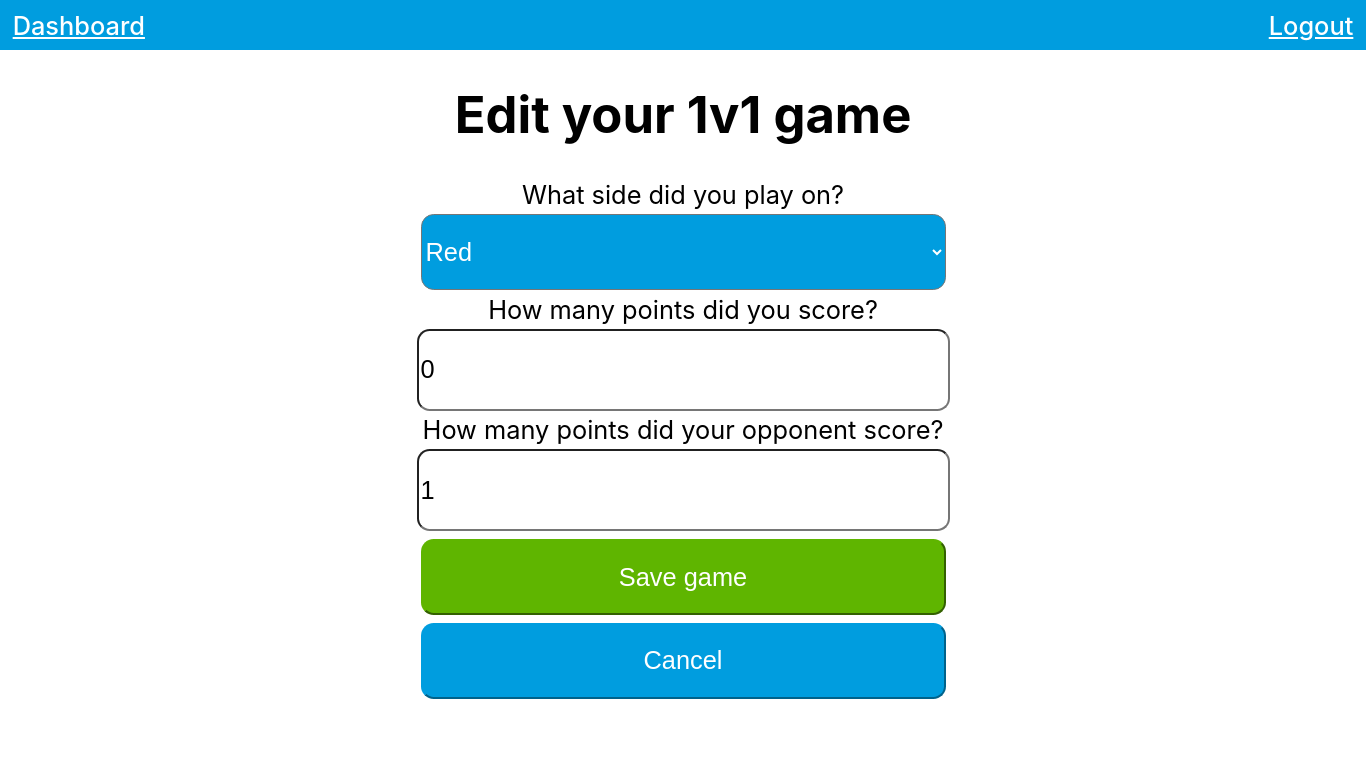
can edit a game
Expected: the heading "Edit your 1v1 game" is shown, [333, 84, 1033, 145]
Select "Blue" in the dropdown at (683, 252), box [420, 214, 946, 290]
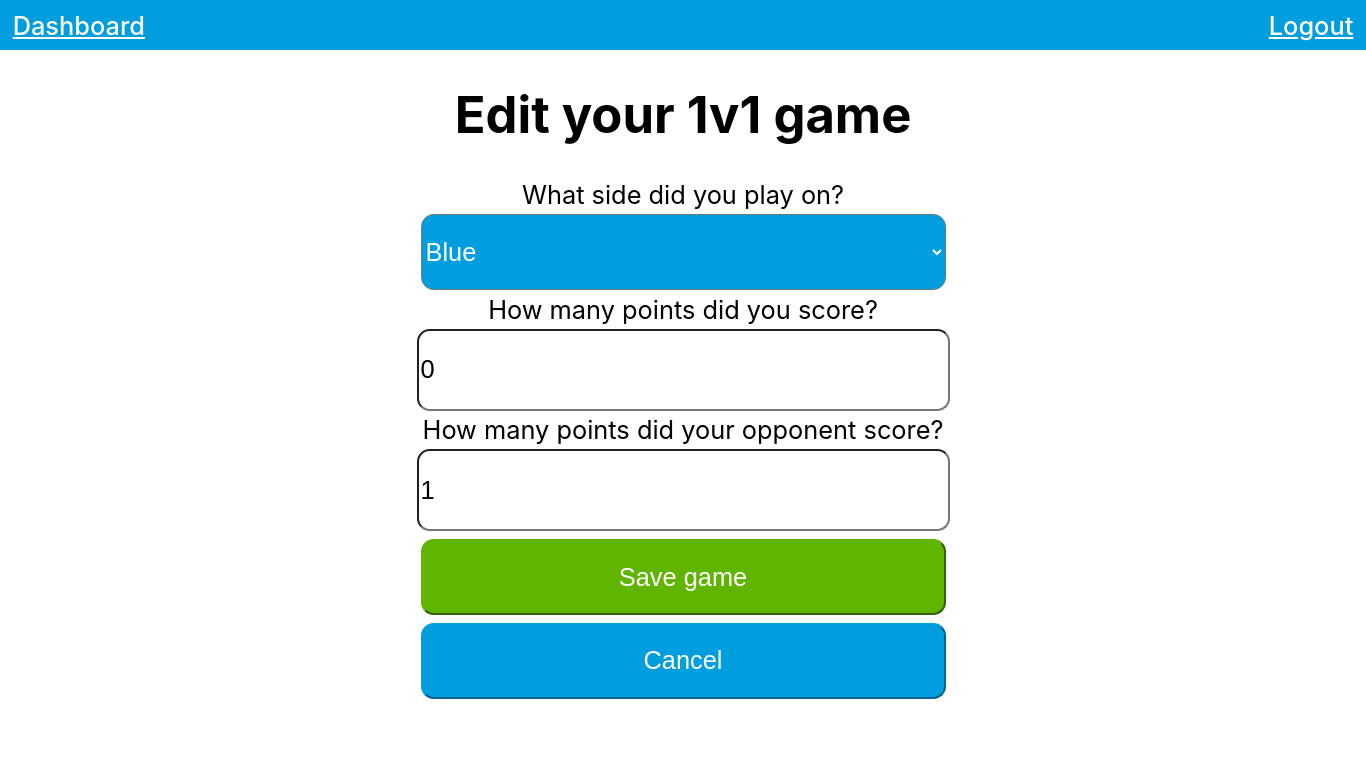
Replace the text in the number field with placeholder "points" with "10" at (683, 370), box [416, 328, 950, 411]
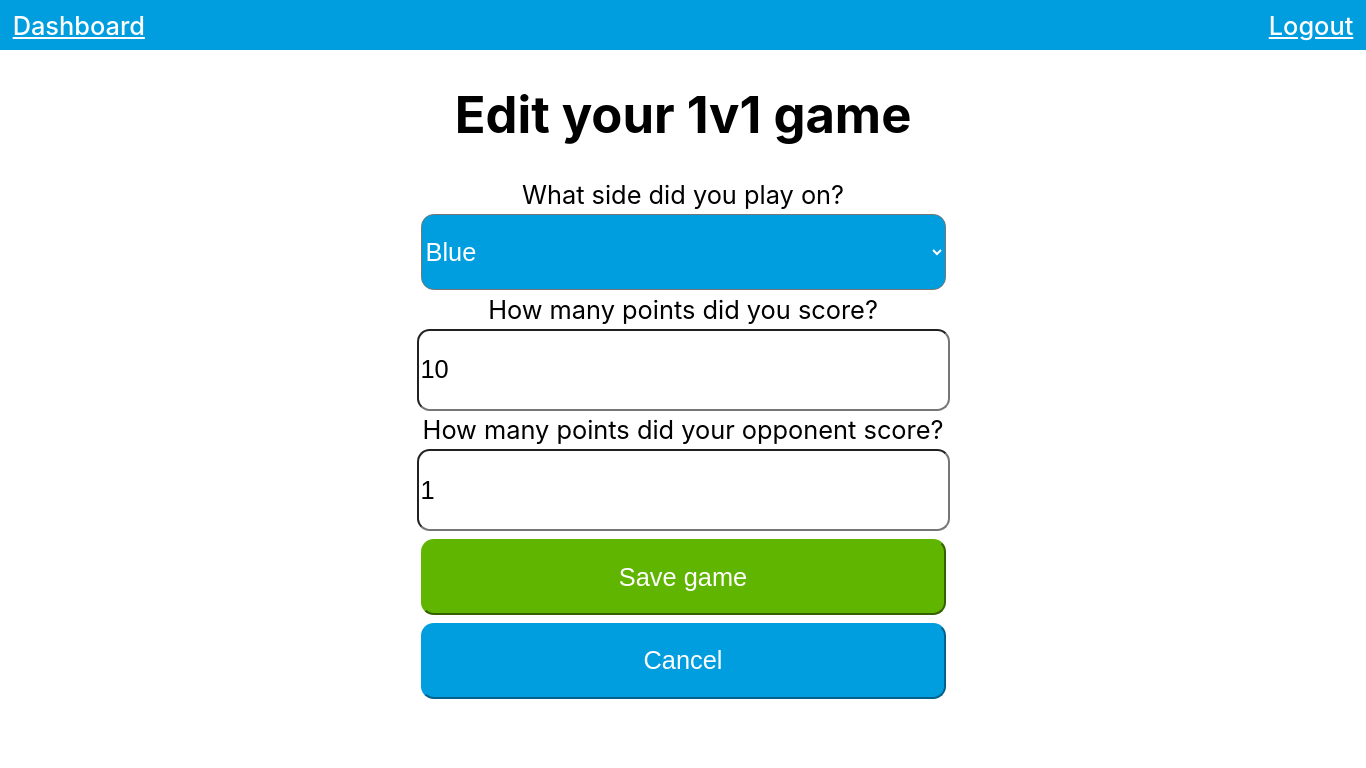
Replace the text in the number field with placeholder "points" with "3" at (683, 490), box [416, 449, 950, 531]
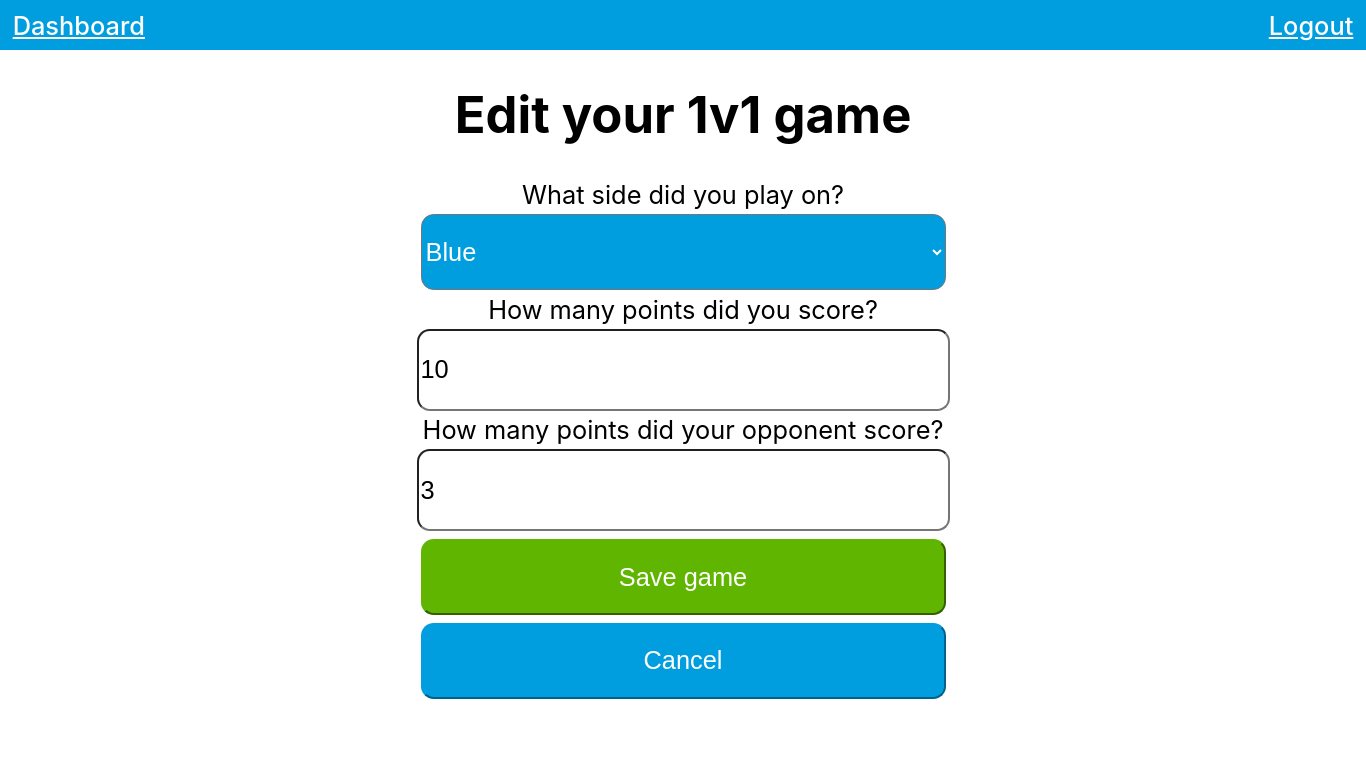
Click the button "Save game".
click(683, 577)  # box [420, 539, 946, 615]
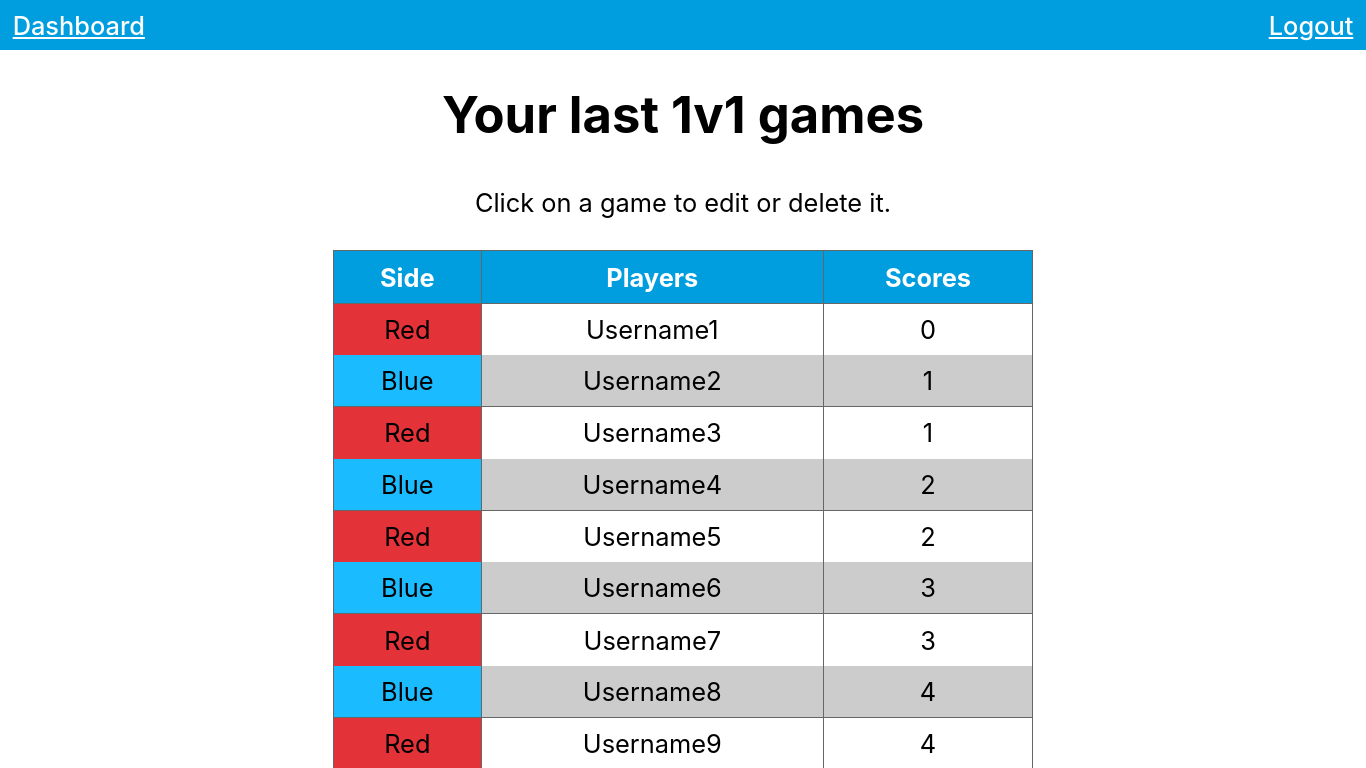
Expected: the heading "Your last 1v1 games" is shown, [333, 84, 1033, 145]
